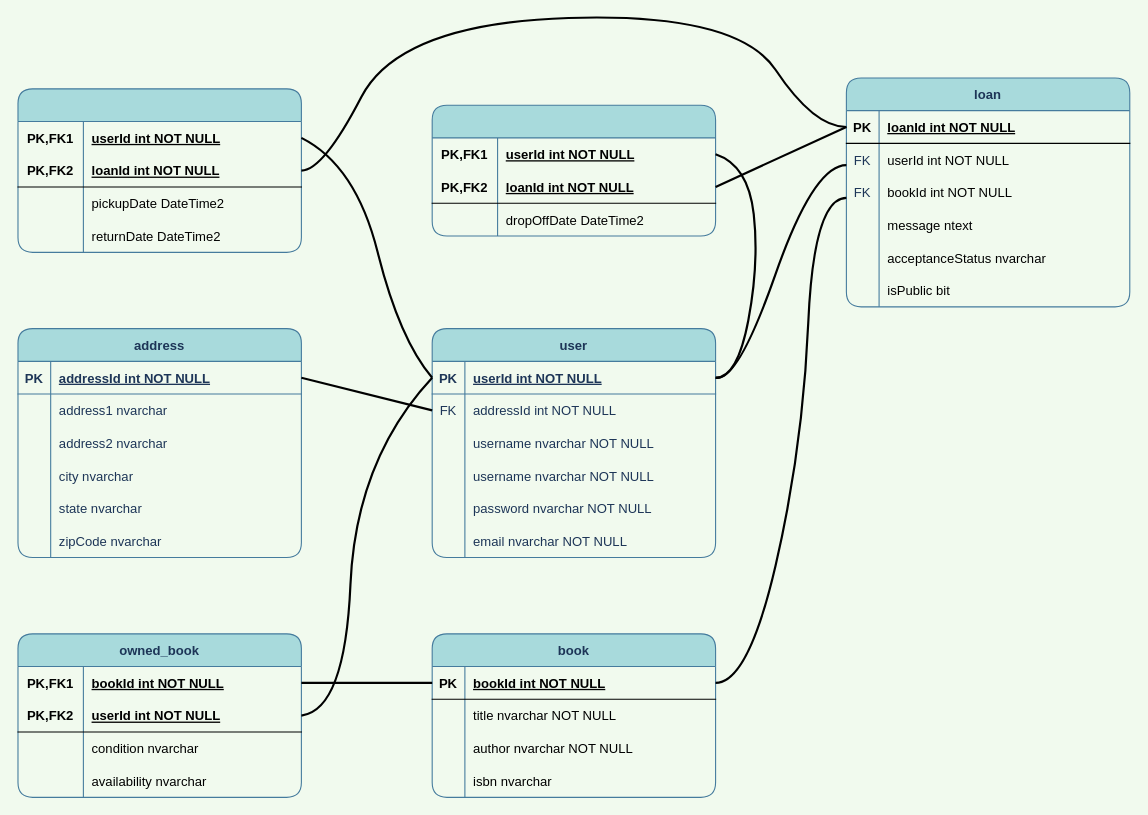
Some shapes in this 1148 by 815 pixel diagram are drawn without their labels. The box of each missing label's shape, as (x1, y1, x2, y2) in pixels:
borrower: (17, 88, 301, 252)
lender: (431, 104, 716, 236)
